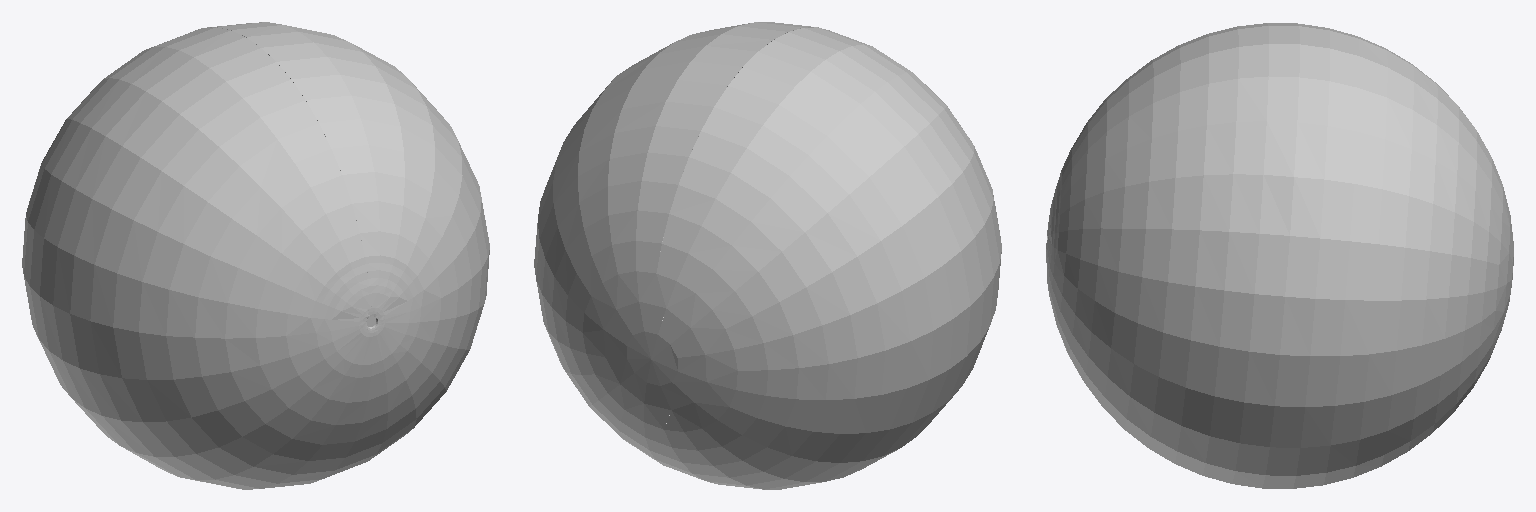
File: ballobj.obj
3 views of the same model, side by side, from view 1: azimuth 30°, elevation 25°; view 2: azimuth 150°, elevation 25°; view 3: azimuth 270°, elevation 25° (orthographic).
Parts seen in each view (by area): view 1: mesh00132, mesh0011; view 2: mesh00132, mesh0011; view 3: mesh0011, mesh00132.
Part boxes in pixels (bbox=[...]): mesh00132: bbox=[22, 27, 372, 489]; mesh0011: bbox=[195, 22, 489, 478]; mesh00132: bbox=[651, 27, 1001, 489]; mesh0011: bbox=[534, 22, 829, 479]; mesh0011: bbox=[1046, 44, 1513, 488]; mesh00132: bbox=[1046, 23, 1508, 243].
Size of the model in its own units: 10 by 9.99 by 9.98.